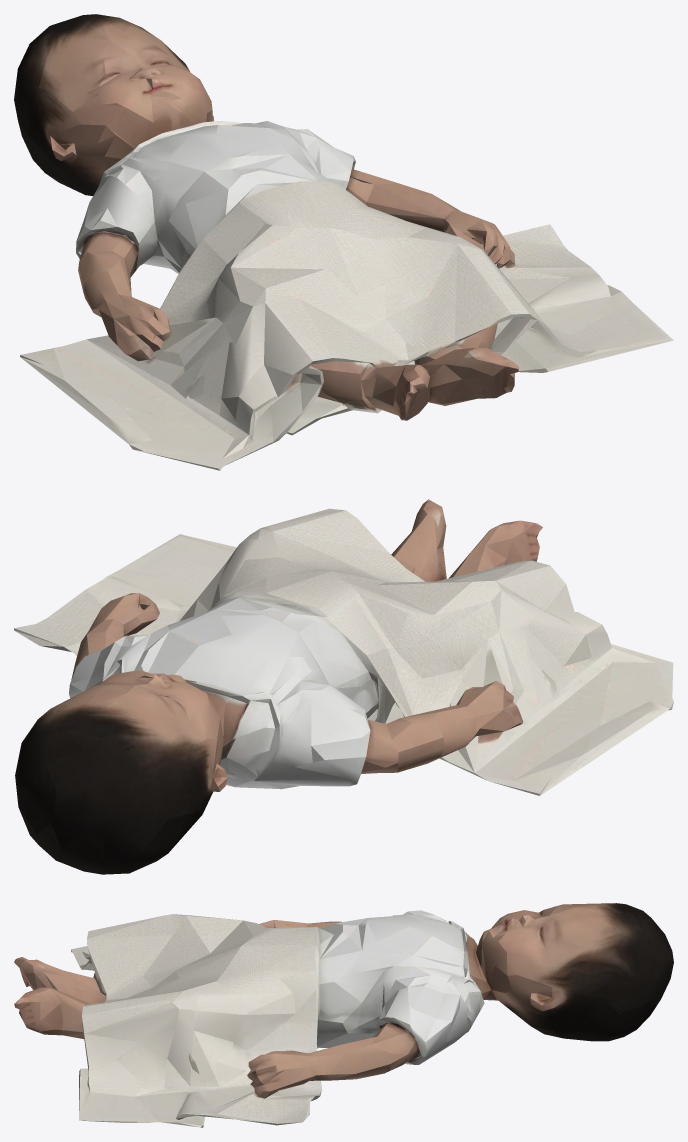
The model's file is grandchild.glb.
3 renders of one model, top to bottom at view 1: azimuth 30°, elevation 25°; view 2: azimuth 150°, elevation 25°; view 3: azimuth 270°, elevation 25°, orthographic. The views are drawn at different scales.
Parts seen in each view (by area): view 1: output_unwrapped; view 2: output_unwrapped; view 3: output_unwrapped.
Part boxes in pixels (x1,y1,x2,y2): output_unwrapped: (14, 14, 673, 470); output_unwrapped: (14, 499, 673, 874); output_unwrapped: (14, 903, 673, 1127).
Bounding box in the file's own units: 1.4 × 0.3966 × 1.9.
Materials: 1 (1 with a texture image).
